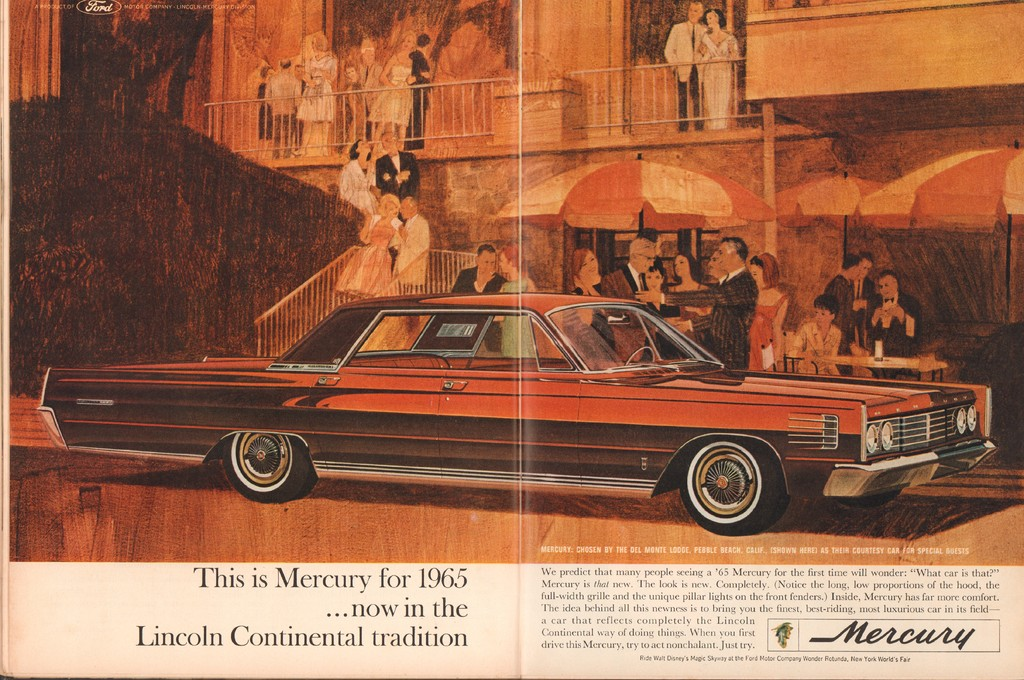person: (663, 235, 762, 370)
